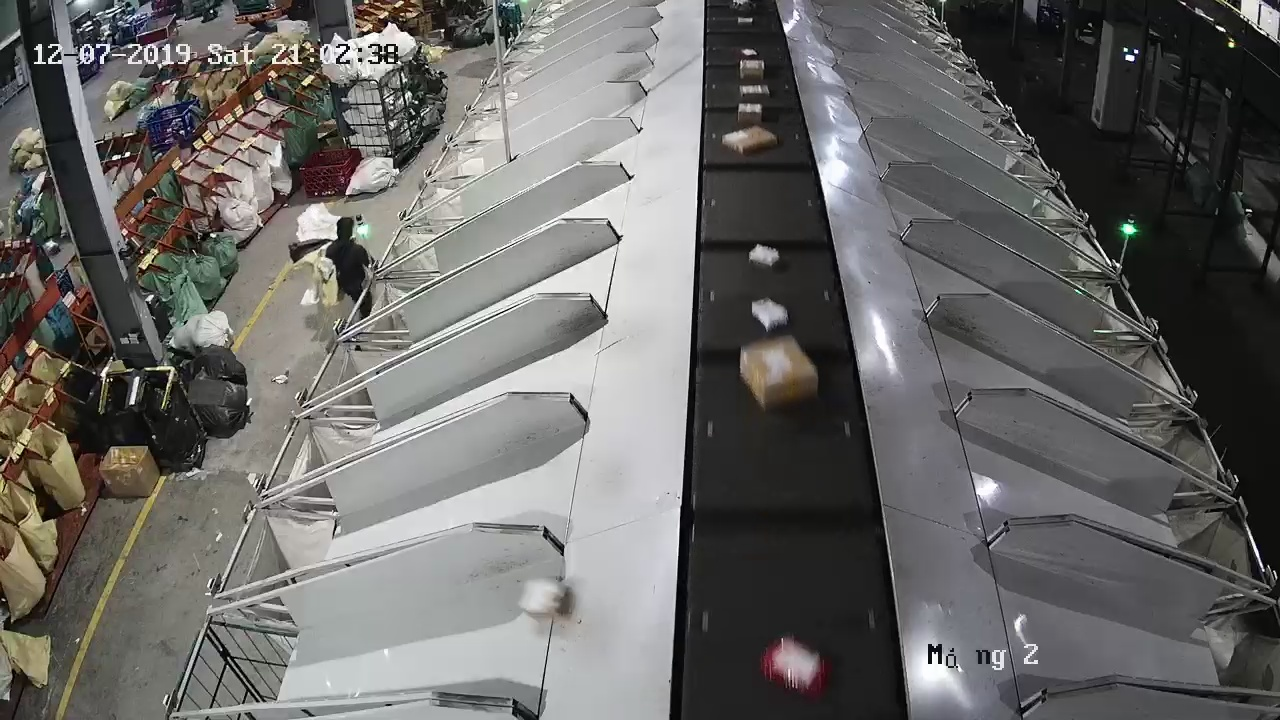parcel: (516, 575, 572, 621)
